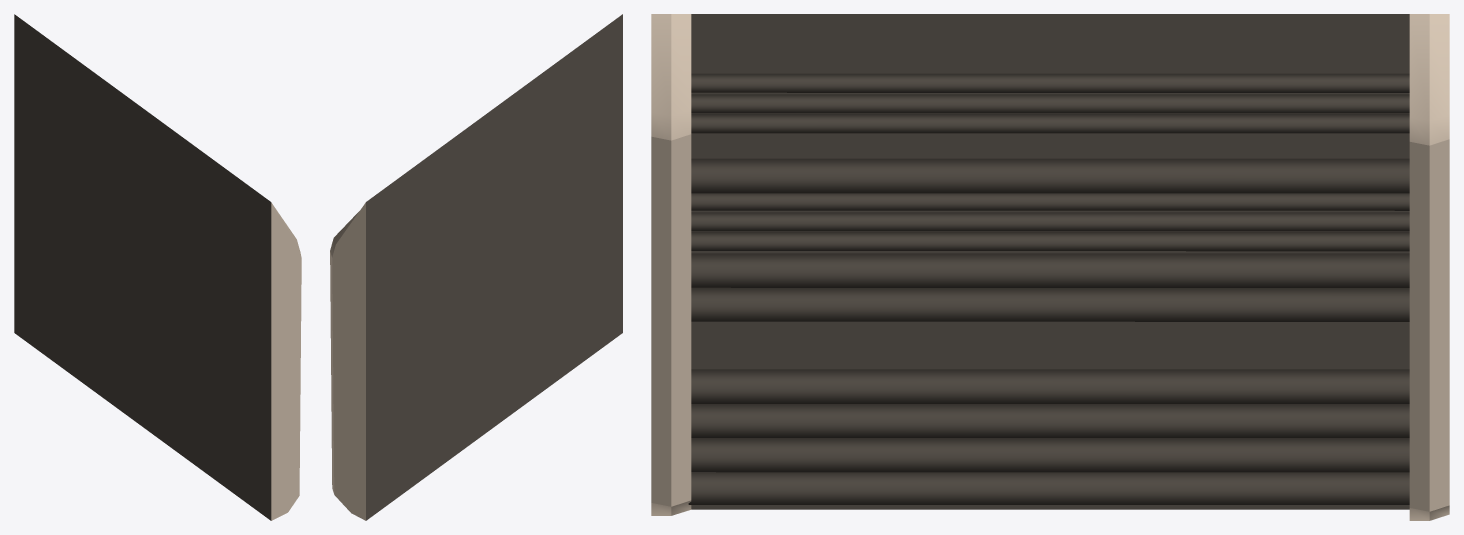
Rendered from Module_Ss_wall_1X_A1.FBX.
3 renders of one model, left to right at view 1: azimuth 30°, elevation 25°; view 2: azimuth 150°, elevation 25°; view 3: azimuth 270°, elevation 25°, orthographic. The views are drawn at different scales.
Visible parts, largest first — view 1: Module_Ss_wall_1X_A1; view 2: Module_Ss_wall_1X_A1; view 3: Module_Ss_wall_1X_A1.
Part boxes in pixels (x1,y1,x2,y2): Module_Ss_wall_1X_A1: (14, 14, 301, 520); Module_Ss_wall_1X_A1: (330, 14, 622, 520); Module_Ss_wall_1X_A1: (651, 14, 1449, 520).
Bounding box in the file's own units: 5.49 × 39.37 × 57.49.
